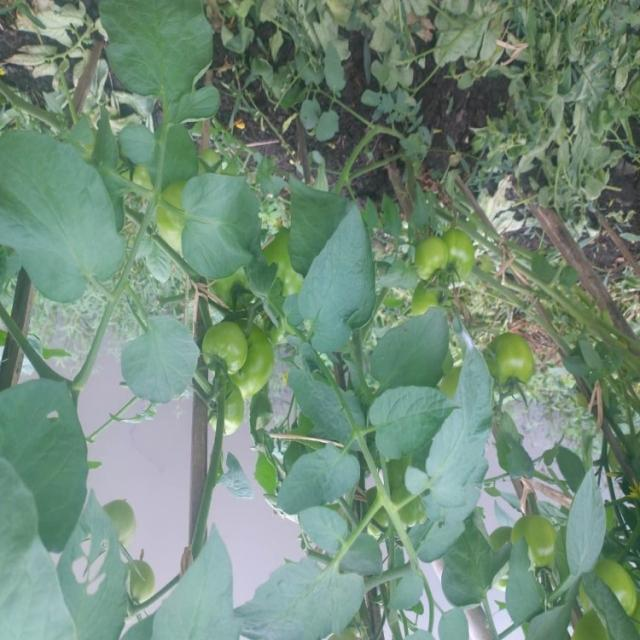tomato: (232, 317, 287, 396), (194, 311, 255, 378), (515, 505, 570, 575), (491, 328, 542, 395), (121, 551, 177, 608), (438, 215, 490, 276), (411, 222, 457, 284), (406, 275, 461, 320), (102, 486, 133, 542), (213, 386, 246, 436)
